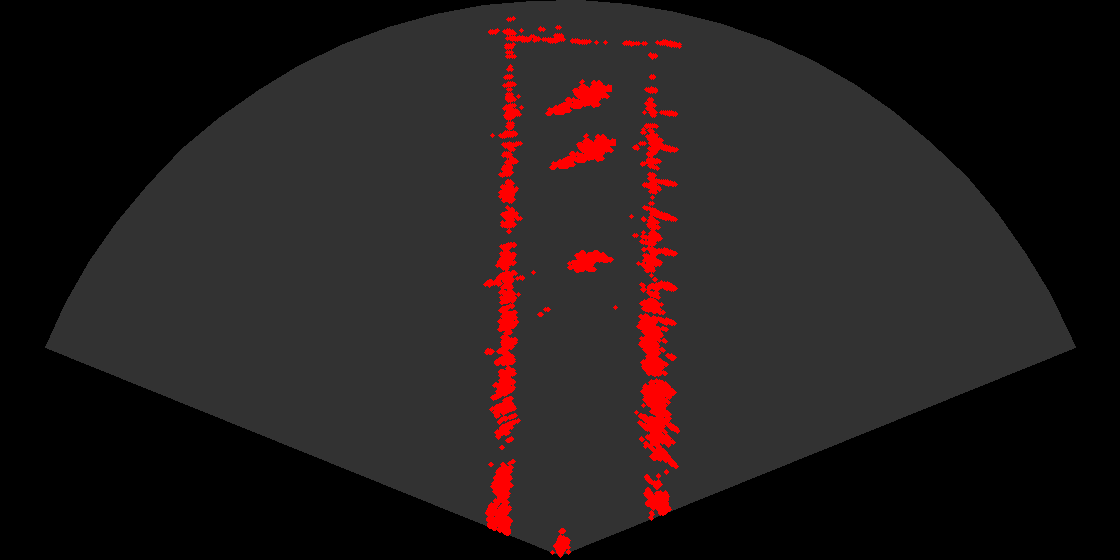AUV: (561, 248, 617, 280)
frogman: (544, 73, 612, 120), (548, 127, 616, 174)
